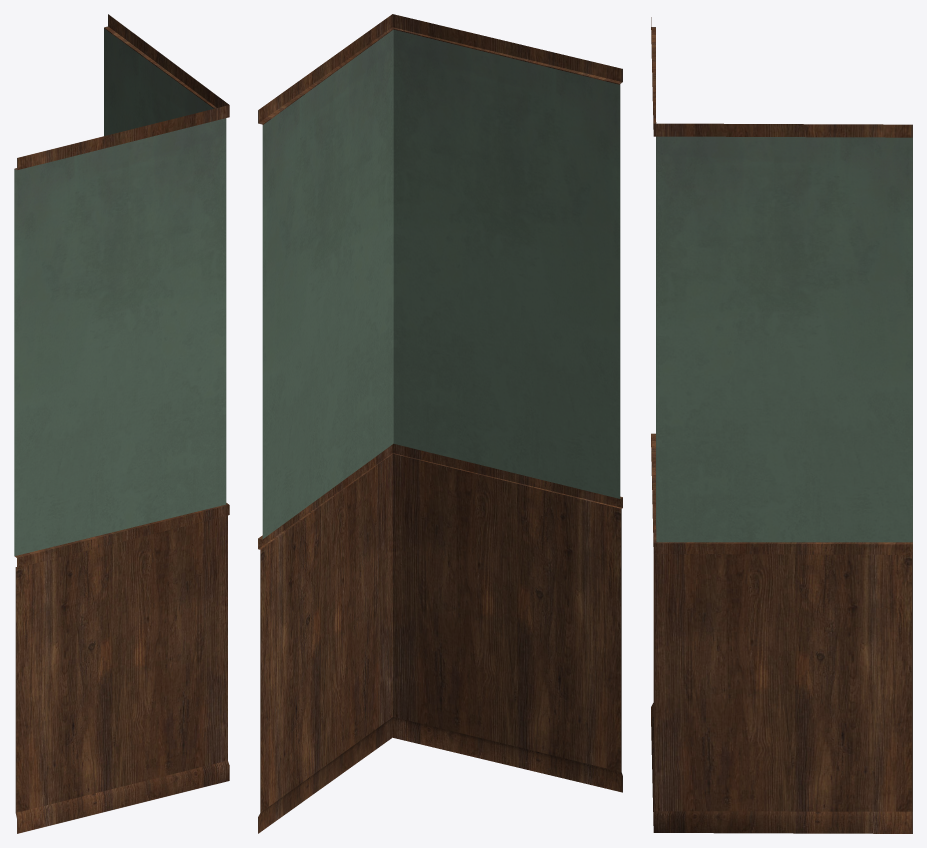
File: RecCorOpeW.fbx
3 renders of one model, left to right at view 1: azimuth 30°, elevation 25°; view 2: azimuth 150°, elevation 25°; view 3: azimuth 270°, elevation 25°, orthographic. The views are drawn at different scales.
Parts seen in each view (by area): view 1: OpenCorner; view 2: OpenCorner; view 3: OpenCorner.
Part boxes in pixels (<box>): OpenCorner: <box>14,14,229,833</box>; OpenCorner: <box>258,14,622,833</box>; OpenCorner: <box>651,17,912,833</box>.
Bounding box in the file's own units: 102 × 305 × 102.
1 material, 1 textured.
